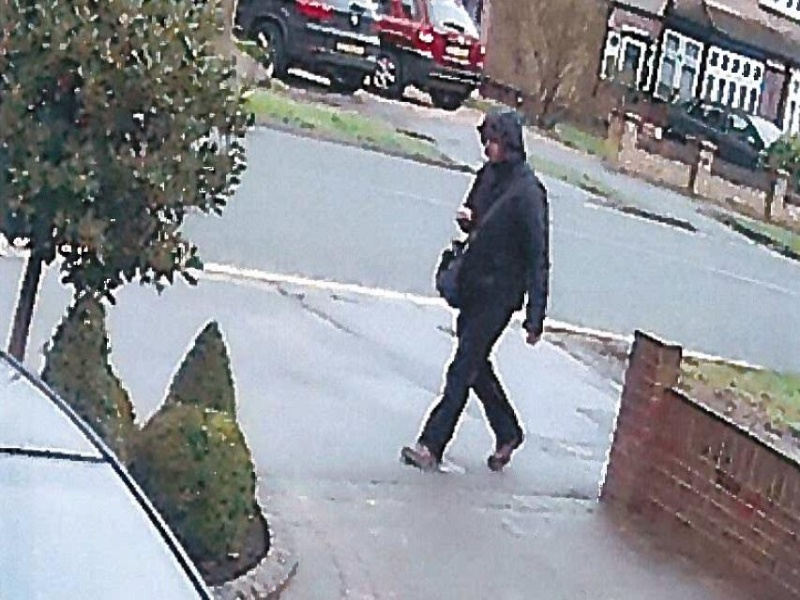person: (393, 101, 579, 477)
